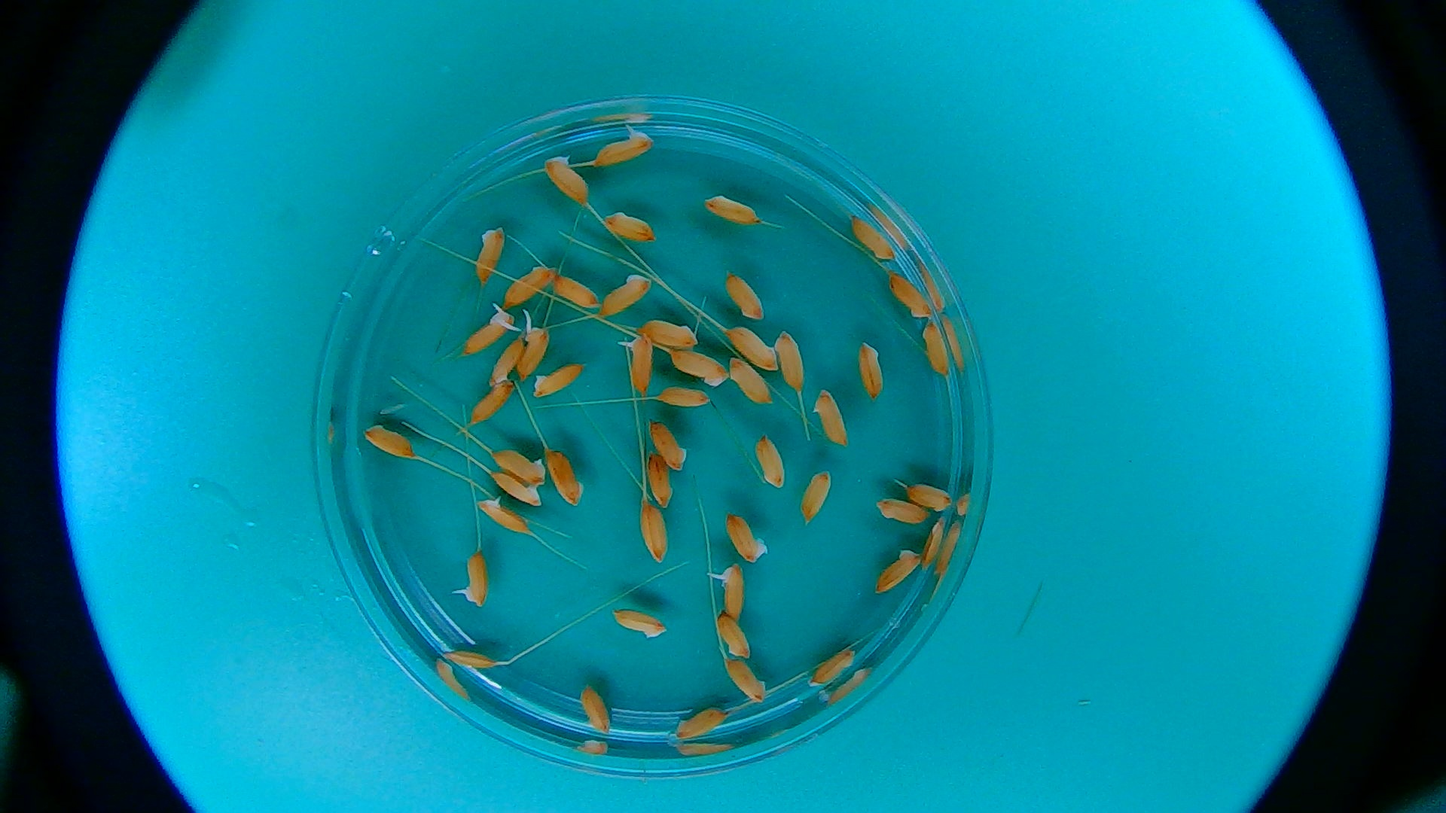no: (500, 257, 559, 312), (721, 323, 782, 373), (544, 445, 590, 510), (719, 267, 770, 325), (541, 150, 593, 206), (809, 388, 856, 449), (871, 544, 923, 597), (725, 355, 776, 408), (599, 270, 654, 319), (700, 188, 764, 230), (804, 643, 862, 689), (488, 440, 548, 484), (723, 510, 771, 565), (645, 417, 691, 474), (528, 358, 590, 400), (464, 380, 517, 429), (469, 219, 507, 286), (669, 346, 728, 389), (848, 212, 898, 261), (886, 269, 936, 318), (361, 422, 419, 464), (637, 501, 673, 567), (546, 272, 602, 314), (721, 656, 769, 704), (799, 465, 834, 530), (599, 206, 657, 245), (608, 607, 669, 642), (637, 318, 700, 351), (856, 338, 889, 400), (770, 327, 803, 389), (714, 612, 755, 661), (920, 318, 954, 377), (753, 431, 787, 490), (673, 705, 731, 739), (581, 682, 615, 739), (487, 337, 526, 386), (644, 451, 676, 510), (439, 646, 498, 674), (652, 385, 712, 412), (877, 497, 928, 528), (904, 481, 953, 513), (920, 515, 945, 571)
yes: (593, 128, 654, 170), (471, 494, 529, 535), (465, 311, 517, 355), (488, 470, 545, 510), (514, 324, 548, 380), (457, 550, 489, 609), (715, 564, 746, 623), (625, 335, 653, 396)
